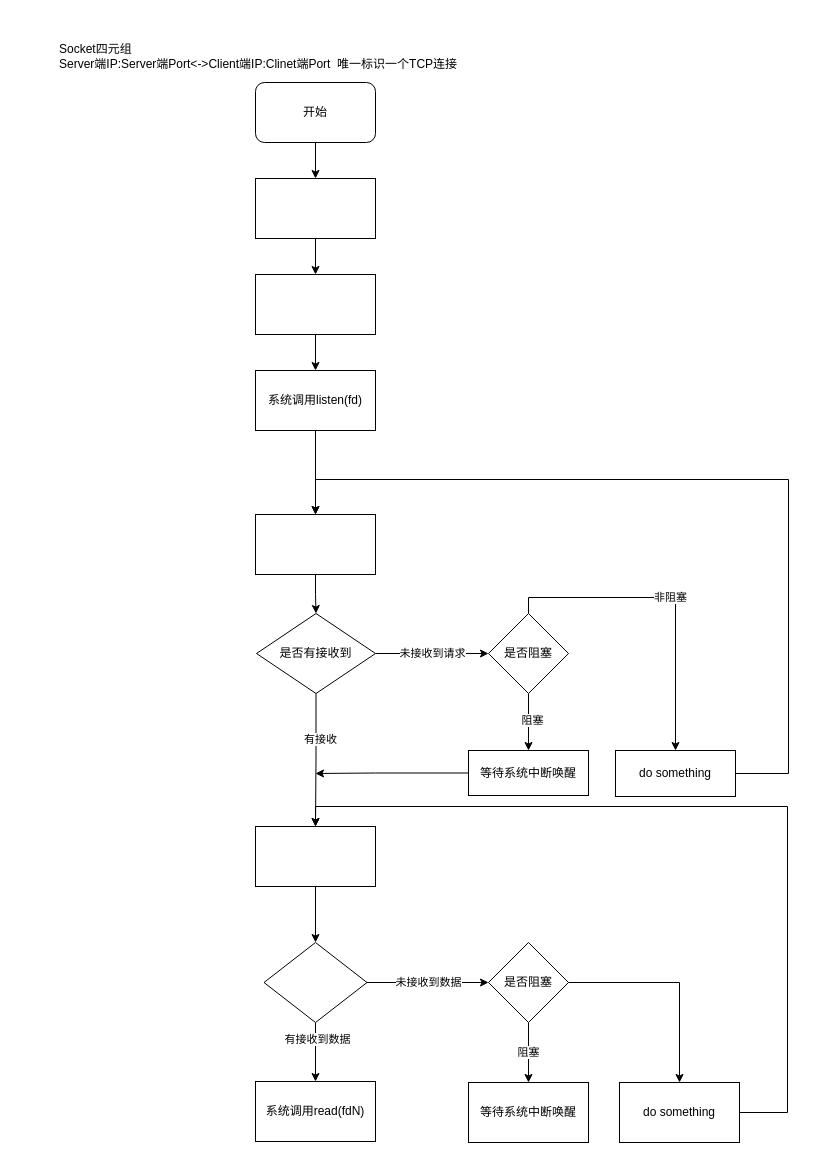
This 814x1160 diagram has some shape labels left out. Each missing label, with the box of its shape:
是否接收到数据: (263, 942, 367, 1022)
系统调用accept(fd) 返回fdN: (254, 514, 376, 574)
系统调用bind(fd,端口): (254, 274, 376, 334)
系统调用recv(fdN): (254, 826, 376, 886)
系统调用socket() 返回fd: (254, 178, 376, 238)
